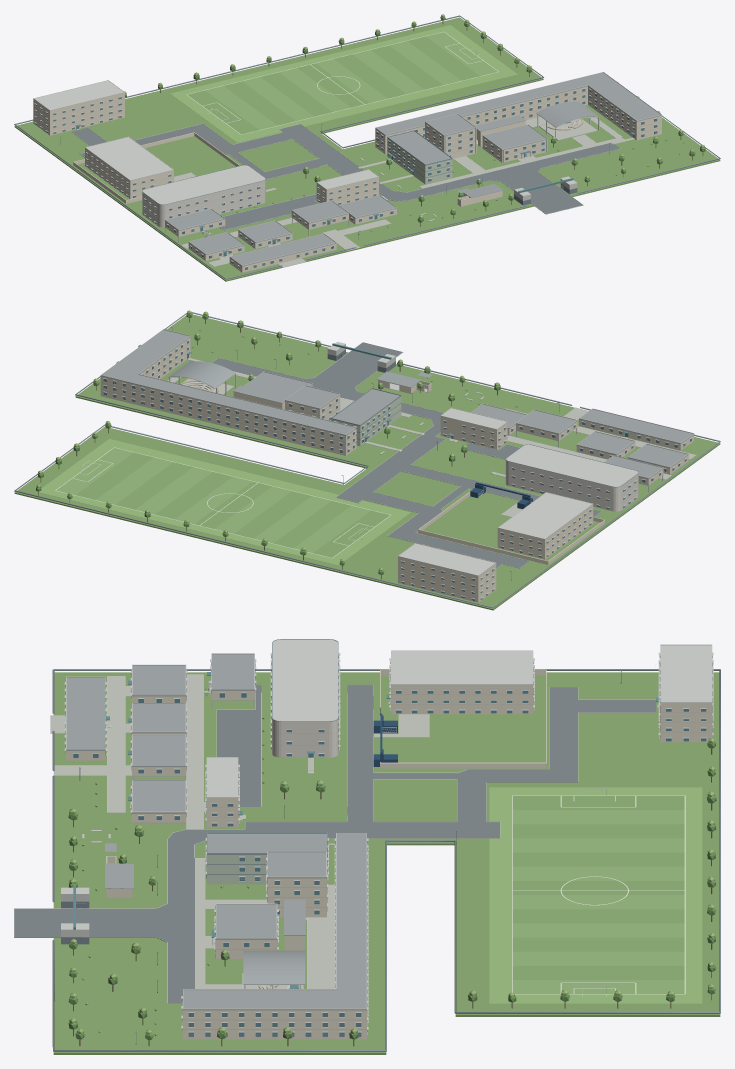
File: MNMJEC_Campus_Stage_E3_Web.glb
3 renders of one model, top to bottom at view 1: azimuth 30°, elevation 25°; view 2: azimuth 150°, elevation 25°; view 3: azimuth 270°, elevation 25°, orthographic. The views are drawn at different scales.
Parts seen in each view (by area): view 1: CAMPUS_TERRAIN_BASE, C_FOOTBALL_TURF_STRIPES, ROAD_CENTRAL_AND_MAIN_ENTRANCE, FOOTBALL_GROUND, L_SHAPE_BLOCK_ROOF, MECHANICAL_BLOCK_FLOOR_2, MNM_SCHOOL_OF_ARCHITECTURE_FLOOR_2, BOUNDARY_WALL_1, ROAD_HOSTEL_TO_GROUND, BOYS_HOSTEL_FLOOR_3, L_SHAPE_BLOCK_FLOOR_2, CANTEEN_ROOF (+28 smaller); view 2: CAMPUS_TERRAIN_BASE, C_FOOTBALL_TURF_STRIPES, FOOTBALL_GROUND, ROAD_CENTRAL_AND_MAIN_ENTRANCE, L_SHAPE_BLOCK_ROOF, MECHANICAL_BLOCK_FLOOR_2, BOUNDARY_WALL_1, MNM_SCHOOL_OF_ARCHITECTURE_FLOOR_2, ROAD_HOSTEL_TO_GROUND, BOYS_HOSTEL_FLOOR_3, L_SHAPE_BLOCK_FLOOR_2, L_SHAPE_BLOCK_FLOOR_1 (+27 smaller); view 3: CAMPUS_TERRAIN_BASE, C_FOOTBALL_TURF_STRIPES, ROAD_CENTRAL_AND_MAIN_ENTRANCE, FOOTBALL_GROUND, L_SHAPE_BLOCK_ROOF, MECHANICAL_BLOCK_FLOOR_2, ROAD_HOSTEL_TO_GROUND, MNM_SCHOOL_OF_ARCHITECTURE_FLOOR_2, BOUNDARY_WALL_1, ROAD_WEST_CROSS_CAMPUS, BOYS_HOSTEL_FLOOR_3, ROAD_MECHANICAL_SOUTH (+31 smaller).
Boxes of the visible parts, x1,y1,x2,y2 form: CAMPUS_TERRAIN_BASE: (14,17,720,281); C_FOOTBALL_TURF_STRIPES: (187,32,497,134); ROAD_CENTRAL_AND_MAIN_ENTRANCE: (280,124,619,213); FOOTBALL_GROUND: (170,25,517,142); L_SHAPE_BLOCK_ROOF: (375,72,661,135); MECHANICAL_BLOCK_FLOOR_2: (142,165,265,212); MNM_SCHOOL_OF_ARCHITECTURE_FLOOR_2: (85,137,173,186); BOUNDARY_WALL_1: (14,15,720,279); ROAD_HOSTEL_TO_GROUND: (72,124,291,157); BOYS_HOSTEL_FLOOR_3: (33,80,124,116); L_SHAPE_BLOCK_FLOOR_2: (375,86,661,141); CANTEEN_ROOF: (230,234,336,266); CAMPUS_TERRAIN_BASE: (14,314,720,610); C_FOOTBALL_TURF_STRIPES: (56,447,390,557); FOOTBALL_GROUND: (37,439,410,565); ROAD_CENTRAL_AND_MAIN_ENTRANCE: (212,342,444,503); L_SHAPE_BLOCK_ROOF: (101,330,356,435); MECHANICAL_BLOCK_FLOOR_2: (505,444,638,495); BOUNDARY_WALL_1: (14,312,720,608); MNM_SCHOOL_OF_ARCHITECTURE_FLOOR_2: (497,492,593,545); ROAD_HOSTEL_TO_GROUND: (364,492,529,568); BOYS_HOSTEL_FLOOR_3: (398,543,496,582); L_SHAPE_BLOCK_FLOOR_2: (100,337,356,442); L_SHAPE_BLOCK_FLOOR_1: (100,344,356,449); CAMPUS_TERRAIN_BASE: (53,672,720,1054); C_FOOTBALL_TURF_STRIPES: (512,796,684,993); ROAD_CENTRAL_AND_MAIN_ENTRANCE: (14,822,499,1003); FOOTBALL_GROUND: (489,787,702,1003); L_SHAPE_BLOCK_ROOF: (183,834,366,1010); MECHANICAL_BLOCK_FLOOR_2: (272,639,338,733); ROAD_HOSTEL_TO_GROUND: (457,687,656,821); MNM_SCHOOL_OF_ARCHITECTURE_FLOOR_2: (391,651,533,694); BOUNDARY_WALL_1: (52,669,720,1051); ROAD_WEST_CROSS_CAMPUS: (347,685,373,821); BOYS_HOSTEL_FLOOR_3: (660,645,712,712); ROAD_MECHANICAL_SOUTH: (217,685,261,806).
Bounding box in the file's own units: 274 × 14.27 × 214.
